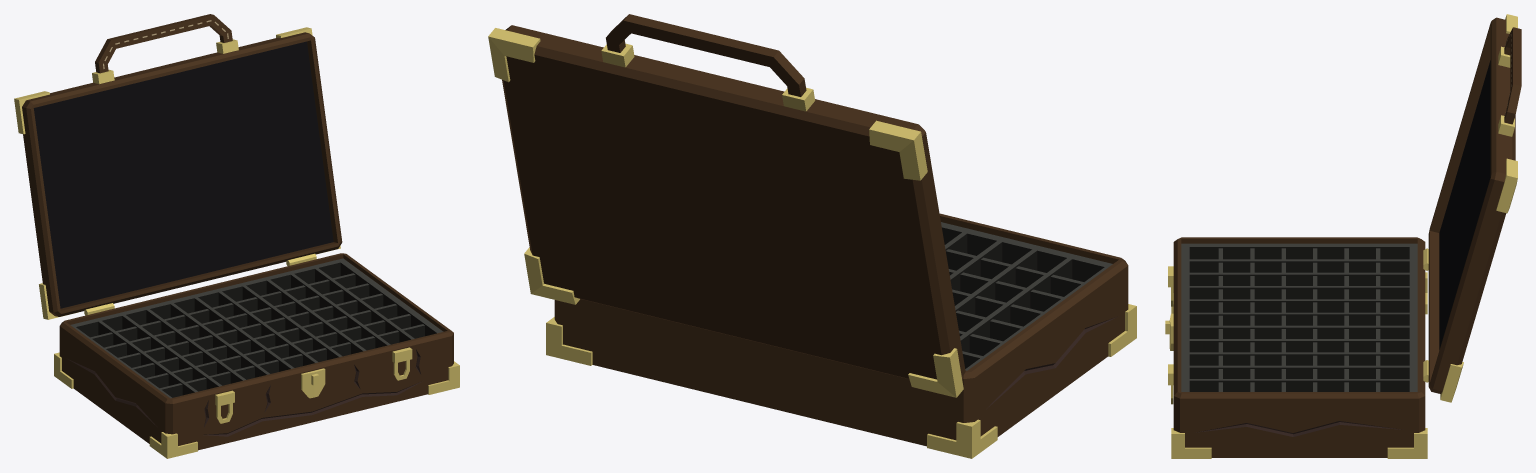
File: miniature-carry-case-bb894a.glb
3 views of the same model, side by side, from view 1: azimuth 30°, elevation 25°; view 2: azimuth 150°, elevation 25°; view 3: azimuth 270°, elevation 25° (orthographic). The views are drawn at different scales.
Parts seen in each view (by area): view 1: lid-shell, case, case-hardware, lid-hardware; view 2: lid-shell, case, lid-hardware, case-hardware; view 3: case, lid-shell, case-hardware, lid-hardware.
Boxes of the visible parts, x1,y1,x2,y2 form: lid-shell: (22,14,342,316); case: (59,253,453,450); case-hardware: (54,253,459,458); lid-hardware: (14,27,340,319); lid-shell: (502,14,965,379); case: (554,213,1128,446); lid-hardware: (488,28,963,397); case-hardware: (546,304,1136,458); case: (1173,237,1425,457); lid-shell: (1428,17,1521,393); case-hardware: (1165,248,1428,458); lid-hardware: (1440,14,1517,402).
Size of the model in its own units: 0.304 by 0.2831 by 0.2833.
